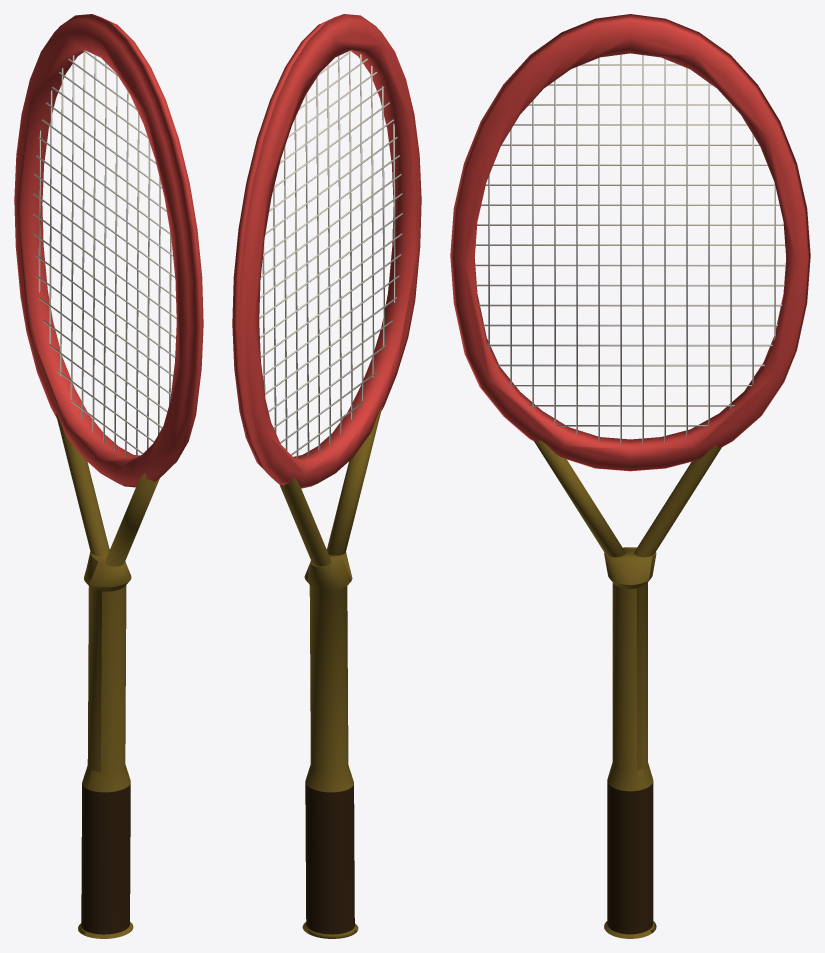
The model's file is Tennis.fbx.
3 views of the same model, side by side, from view 1: azimuth 30°, elevation 25°; view 2: azimuth 150°, elevation 25°; view 3: azimuth 270°, elevation 25° (orthographic).
Parts seen in each view (by area): view 1: Cylinder.006; view 2: Cylinder.006; view 3: Cylinder.006.
Part boxes in pixels (box(x1,y1,x2,y2)): Cylinder.006: box(14, 14, 203, 938); Cylinder.006: box(232, 14, 421, 938); Cylinder.006: box(450, 14, 810, 938).
Size of the model in its own units: 4 by 70.01 by 25.
